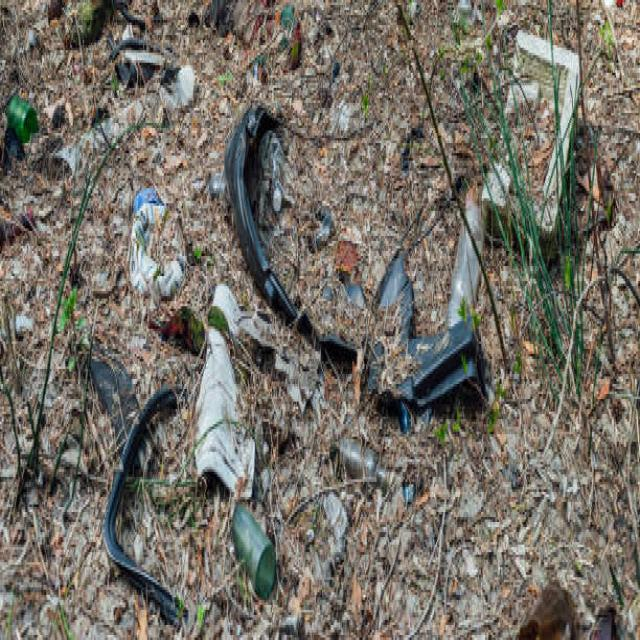glass: (237, 507, 274, 580)
metal: (382, 304, 472, 402), (232, 141, 260, 246)
